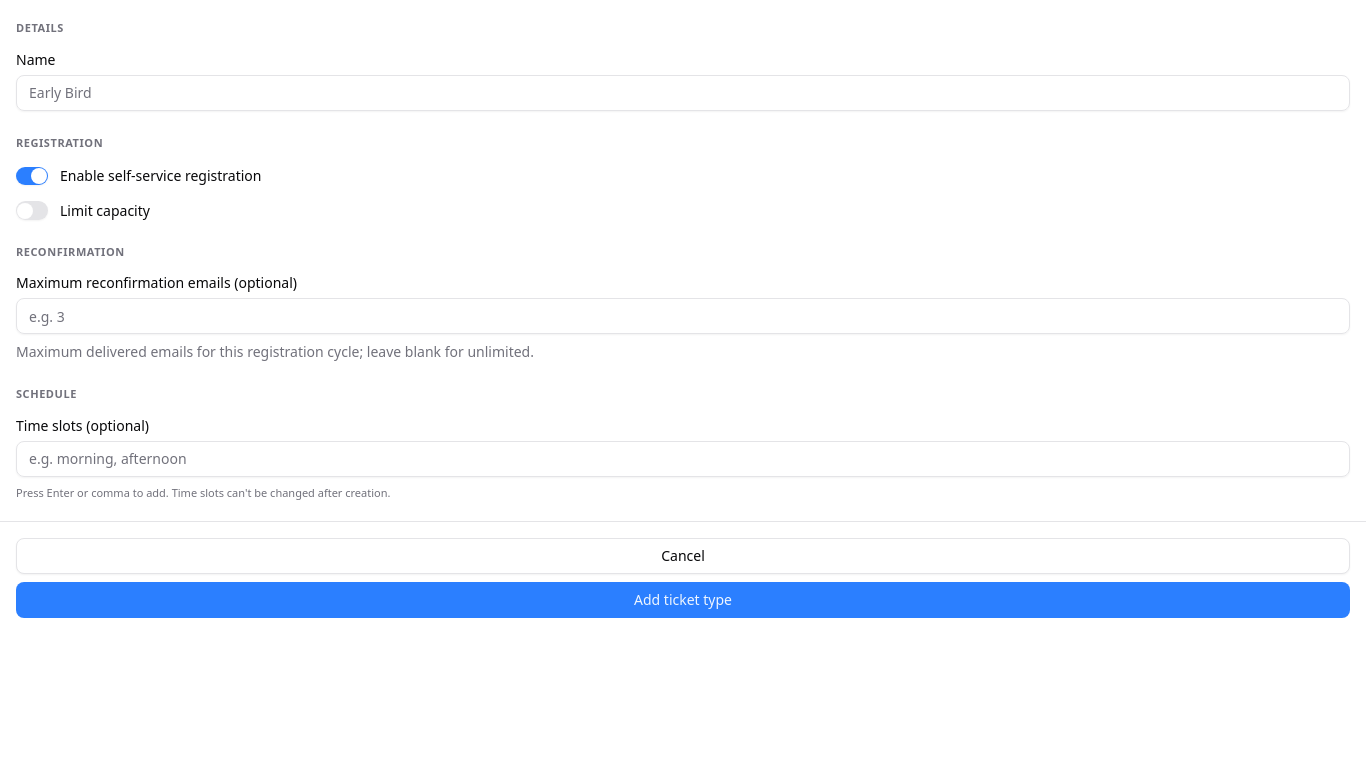
Test: AddTicketTypeForm › labels the capacity field as public capacity without a reserved capacity field
The image size is (1366, 768).
What coordinates should you click on to do the following:
click the switch named "limit capacity" next to "Limit capacity"
I would click on:
 (32, 211)
Its box is [16,201,48,220].
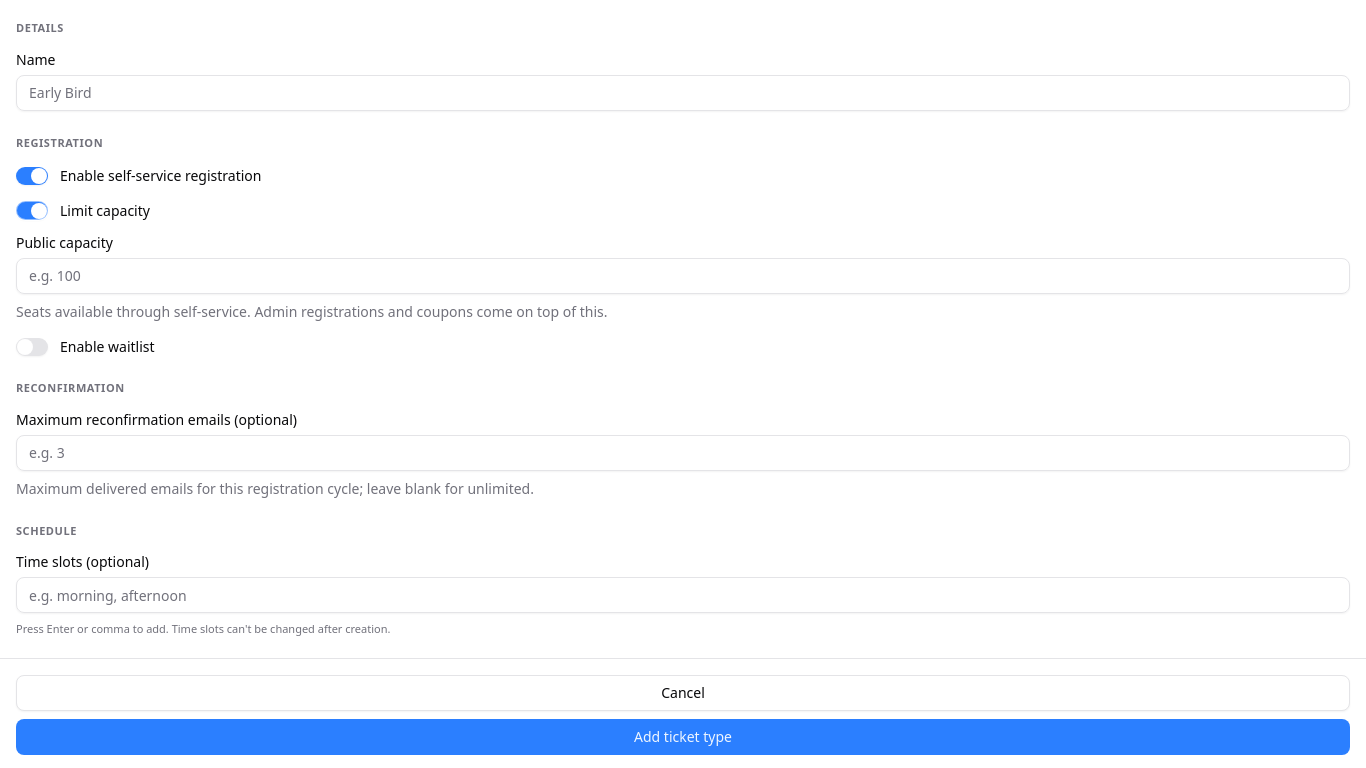
Result: the number field labelled "Public capacity" is shown at [16,258,1350,294]
Result: the text "Admin registrations and coupons come on top of this" is shown at [16,302,608,321]
